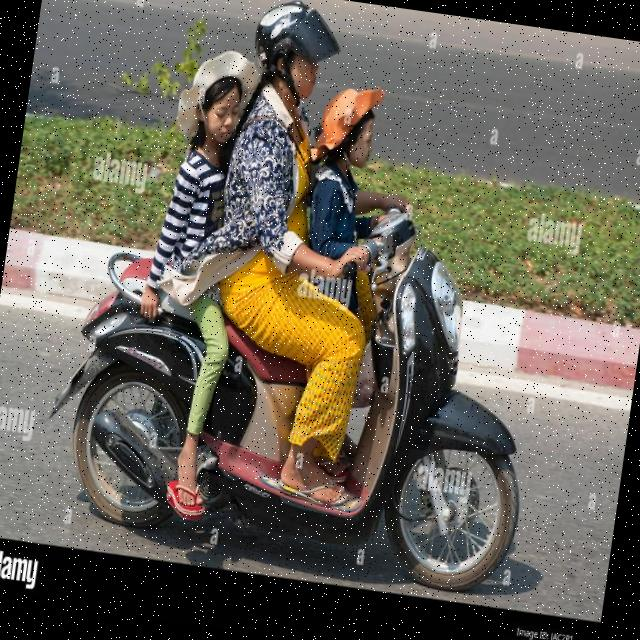Triple riding: (156, 0, 407, 319)
